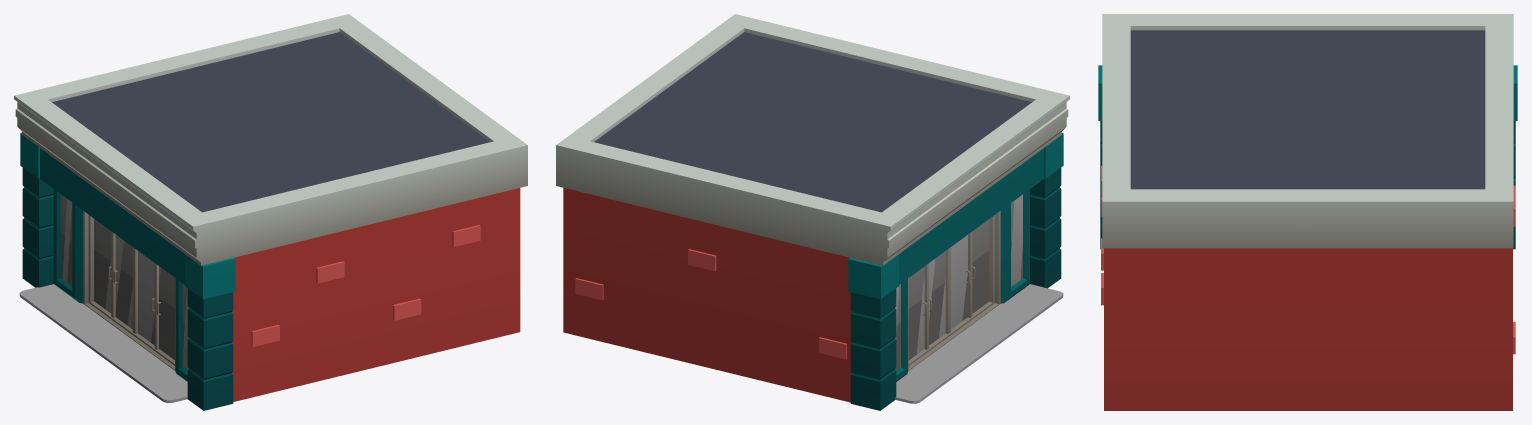
The model's file is Building_21_5_A.fbx.
The picture shows the model from 3 angles, left to right: view 1: azimuth 30°, elevation 25°; view 2: azimuth 150°, elevation 25°; view 3: azimuth 270°, elevation 25°; orthographic projection. The views are drawn at different scales.
Parts seen in each view (by area): view 1: Building_21_5_A; view 2: Building_21_5_A; view 3: Building_21_5_A.
Part boxes in pixels (left/top/right/bottom): Building_21_5_A: left=14, top=14, right=527, bottom=410; Building_21_5_A: left=556, top=14, right=1069, bottom=410; Building_21_5_A: left=1098, top=14, right=1517, bottom=410.
Size of the model in its own units: 779 by 400 by 713.
